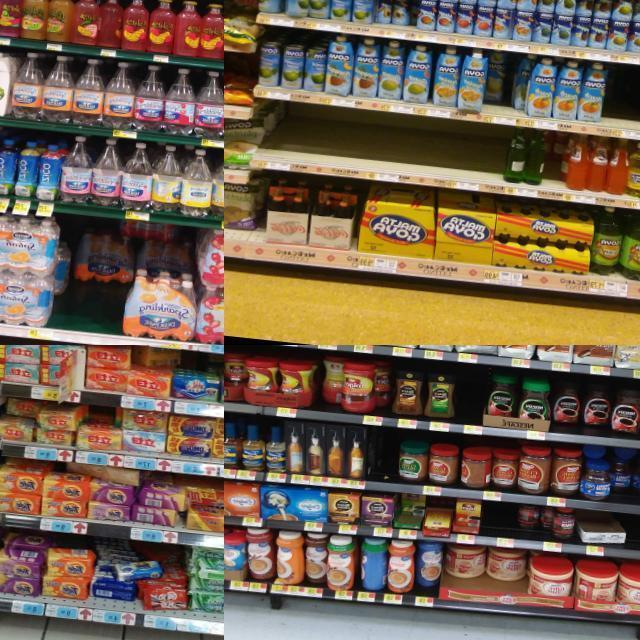Imprecise: (125, 220, 196, 339), (70, 235, 134, 336), (440, 545, 530, 605), (92, 560, 155, 608), (484, 44, 522, 115), (608, 454, 640, 503), (312, 354, 340, 409), (374, 363, 398, 414), (515, 503, 544, 541), (424, 504, 452, 534)
